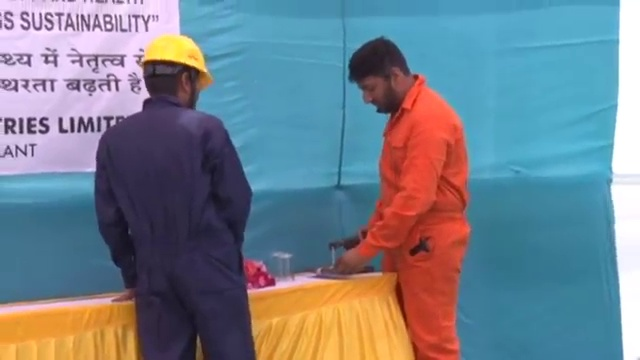helmet: (139, 30, 215, 86)
helmet_off: (344, 35, 419, 119)
helmet_on: (138, 30, 213, 112)
person: (94, 30, 257, 360), (334, 34, 473, 360)
